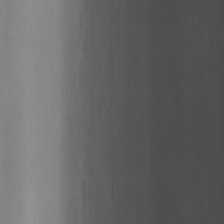silk_spot: (72, 14, 107, 181)
